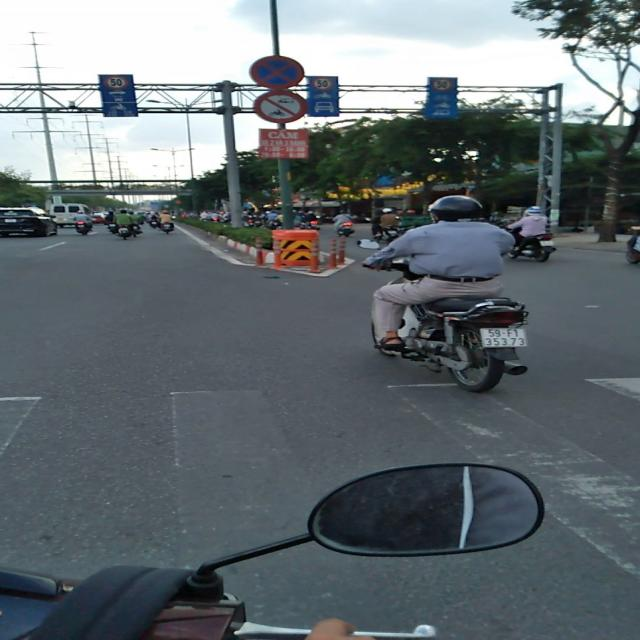Cam con lai: (253, 90, 308, 124)
Cam dung va do: (248, 54, 306, 90)
Toc do toi da: (104, 75, 128, 90), (312, 77, 334, 91), (431, 78, 454, 91)
